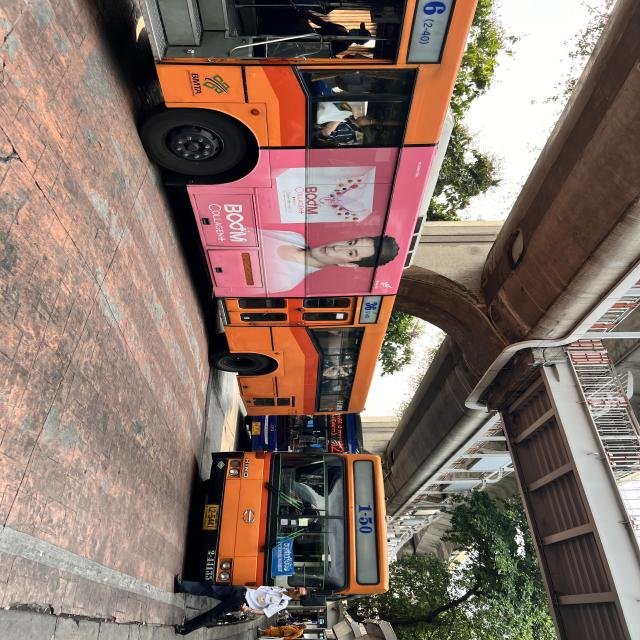BMTA-bus: (103, 0, 478, 417), (198, 451, 389, 603)
Bus-Line-Number: (357, 504, 374, 536), (326, 442, 347, 452)
Destination-Sign-Normal: (272, 537, 295, 576), (326, 412, 346, 443)
TSB-Bus: (240, 412, 365, 456)
